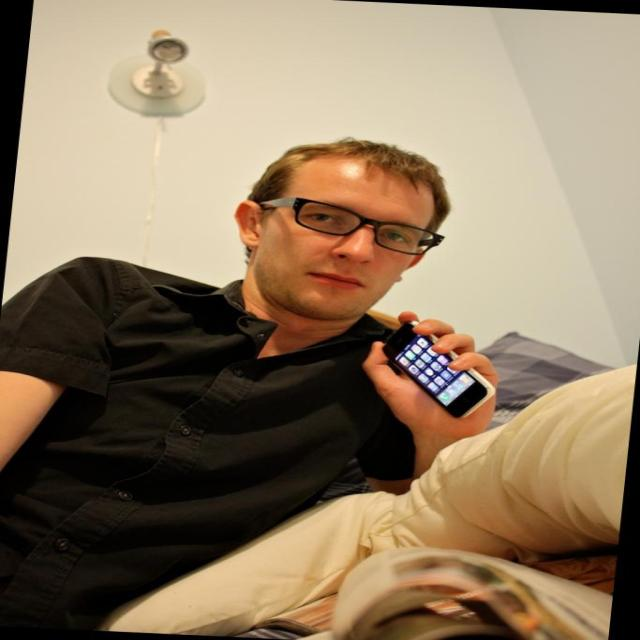phone: (373, 316, 494, 416)
